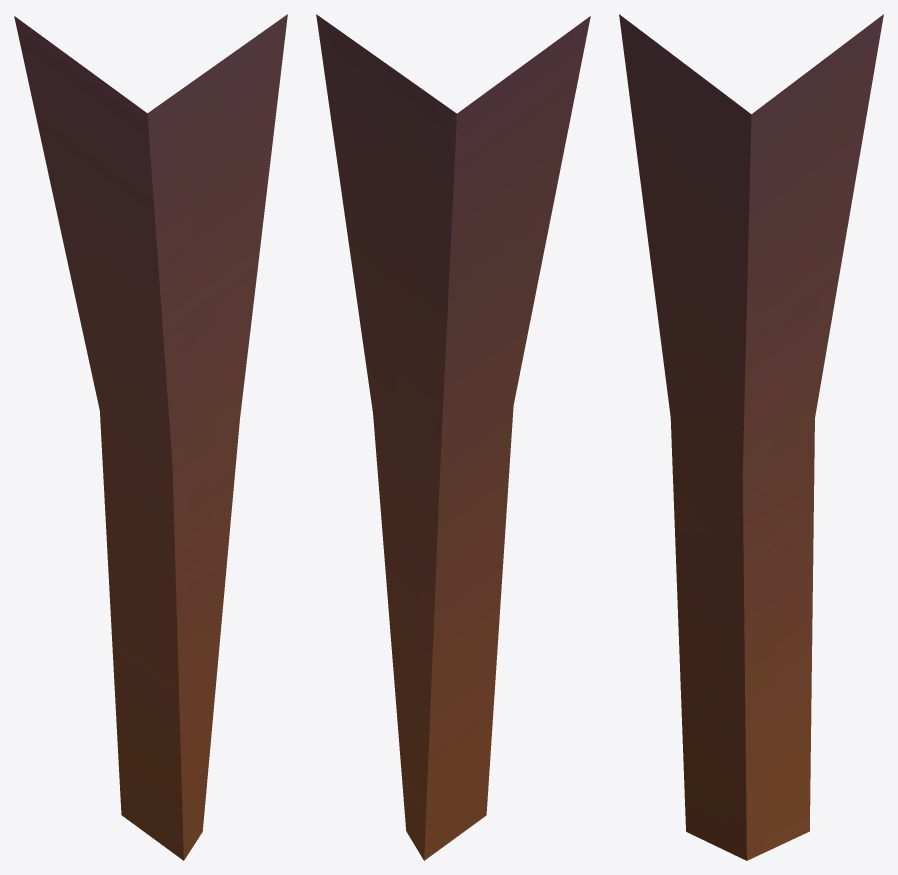
The model's file is droppsten.glb.
3 renders of one model, left to right at view 1: azimuth 30°, elevation 25°; view 2: azimuth 150°, elevation 25°; view 3: azimuth 270°, elevation 25°, orthographic.
Parts seen in each view (by area): view 1: Stalactite001; view 2: Stalactite001; view 3: Stalactite001.
Part boxes in pixels (x1,y1,x2,y2): Stalactite001: [14, 14, 287, 860]; Stalactite001: [316, 14, 590, 860]; Stalactite001: [619, 14, 883, 860].
Bounding box in the file's own units: 161 × 592 × 180.
Materials: 1 (1 with a texture image).
